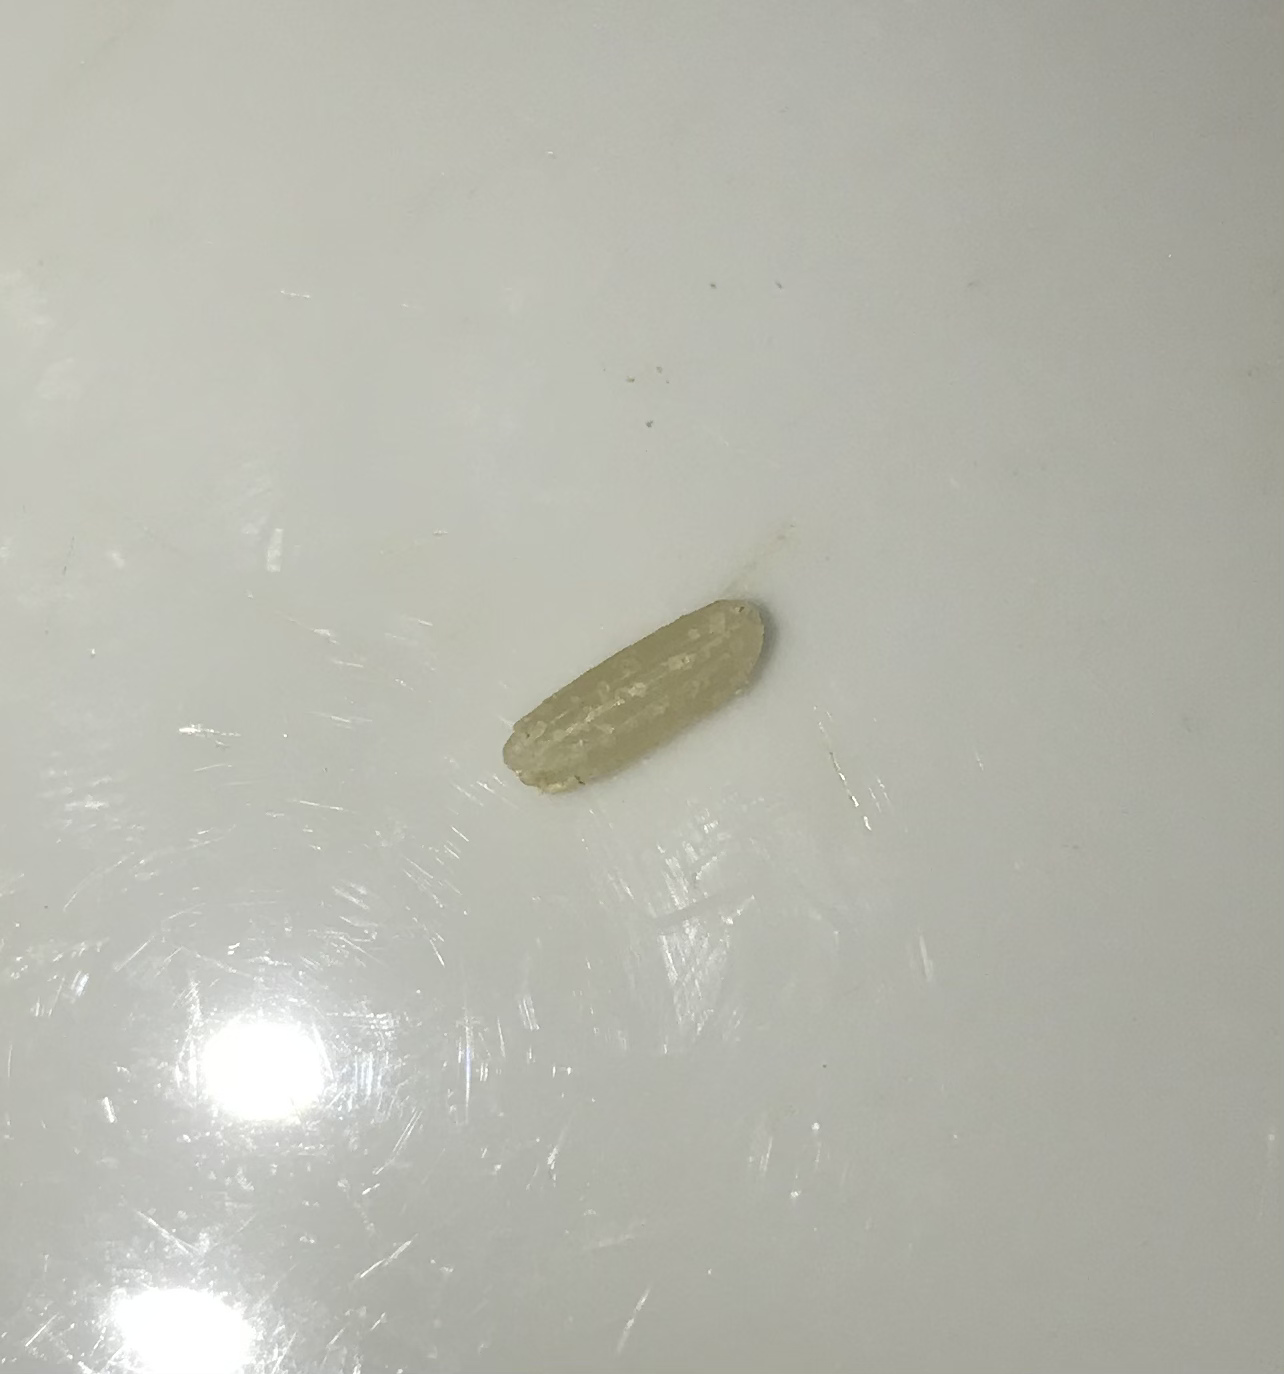Gao Lut Trang: (483, 559, 795, 809)
